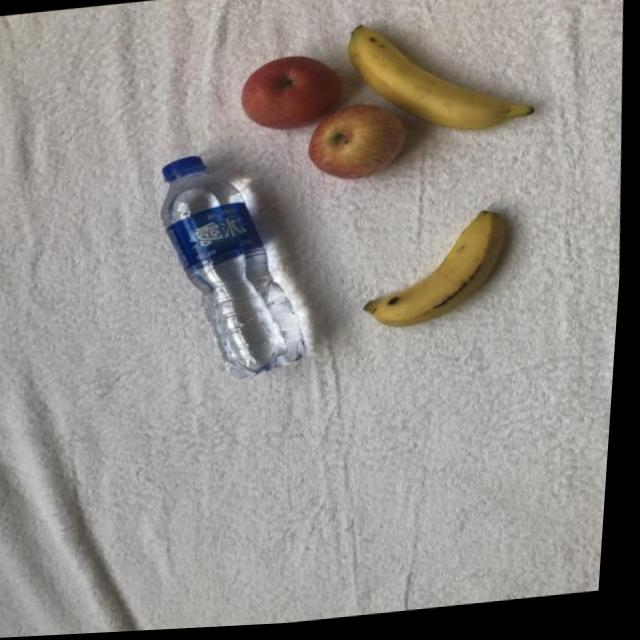Apple: (293, 100, 420, 189), (230, 51, 353, 142)
Banana: (332, 2, 552, 154), (341, 211, 533, 340)
